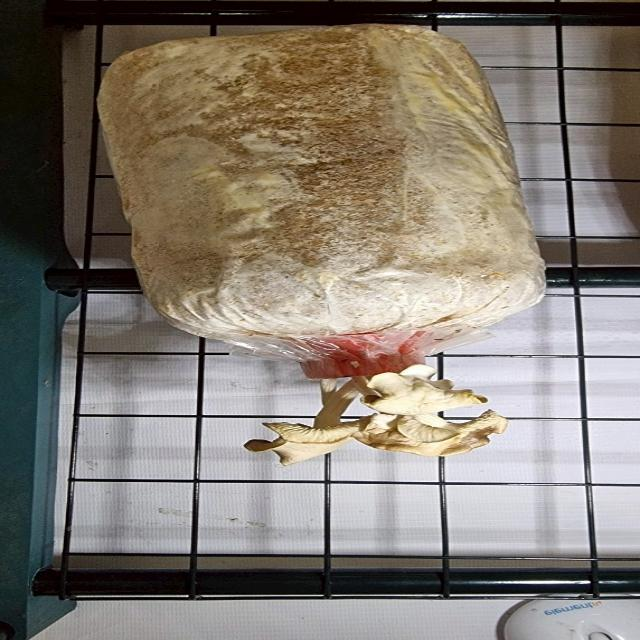abnormal: (236, 360, 509, 469)
